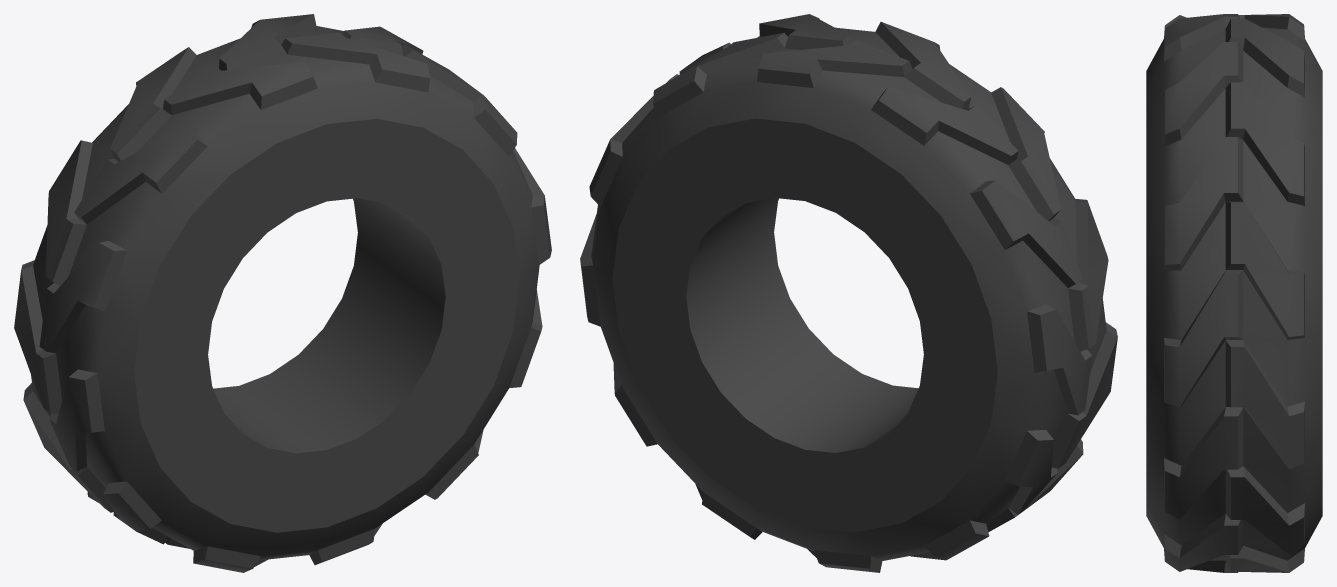
The model's file is Tyre.fbx.
3 views of the same model, side by side, from view 1: azimuth 30°, elevation 25°; view 2: azimuth 150°, elevation 25°; view 3: azimuth 270°, elevation 25° (orthographic).
Parts seen in each view (by area): view 1: Tyre; view 2: Tyre; view 3: Tyre.
Boxes of the visible parts, bbox=[...] form: Tyre: bbox=[14, 14, 551, 572]; Tyre: bbox=[580, 14, 1117, 572]; Tyre: bbox=[1146, 14, 1322, 572].
Bounding box in the file's own units: 32.95 × 32.95 × 10.37.
Materials: 1 (1 with a texture image).
